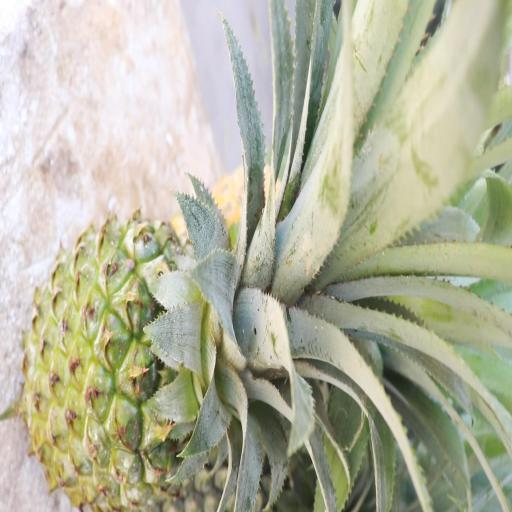------------------------------: (26, 222, 293, 511)
